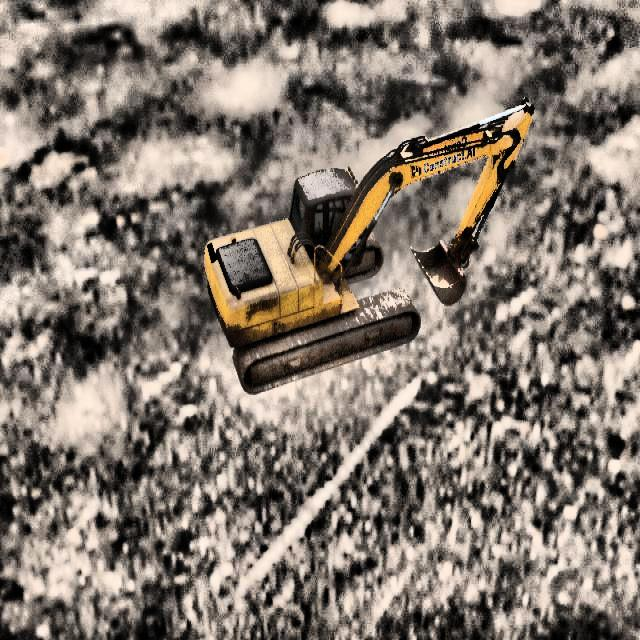excavator: (203, 96, 534, 394)
